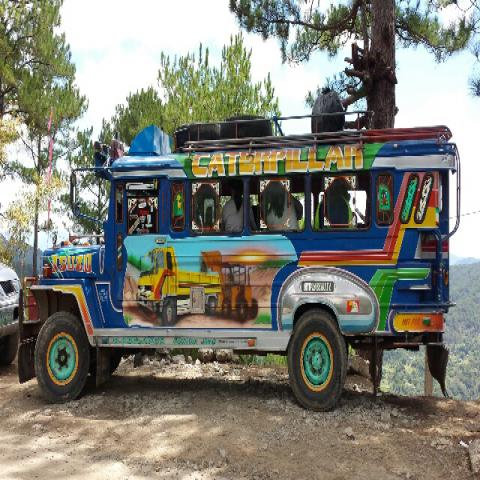truck: (20, 119, 464, 404)
